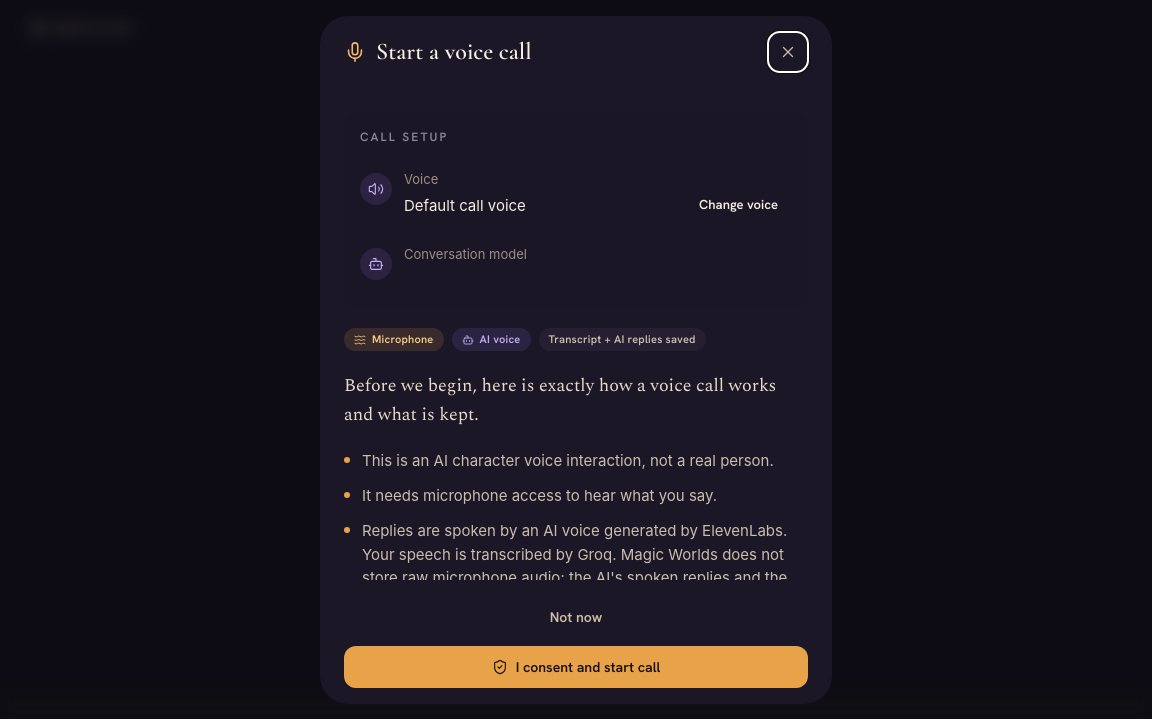
Scenario: Voice call integration proof › sends barge-in, drops local playback, and keeps provider/audio sentinels out of visible errors
Click the button "I consent and start call" at (576, 667), box [344,646,808,688]
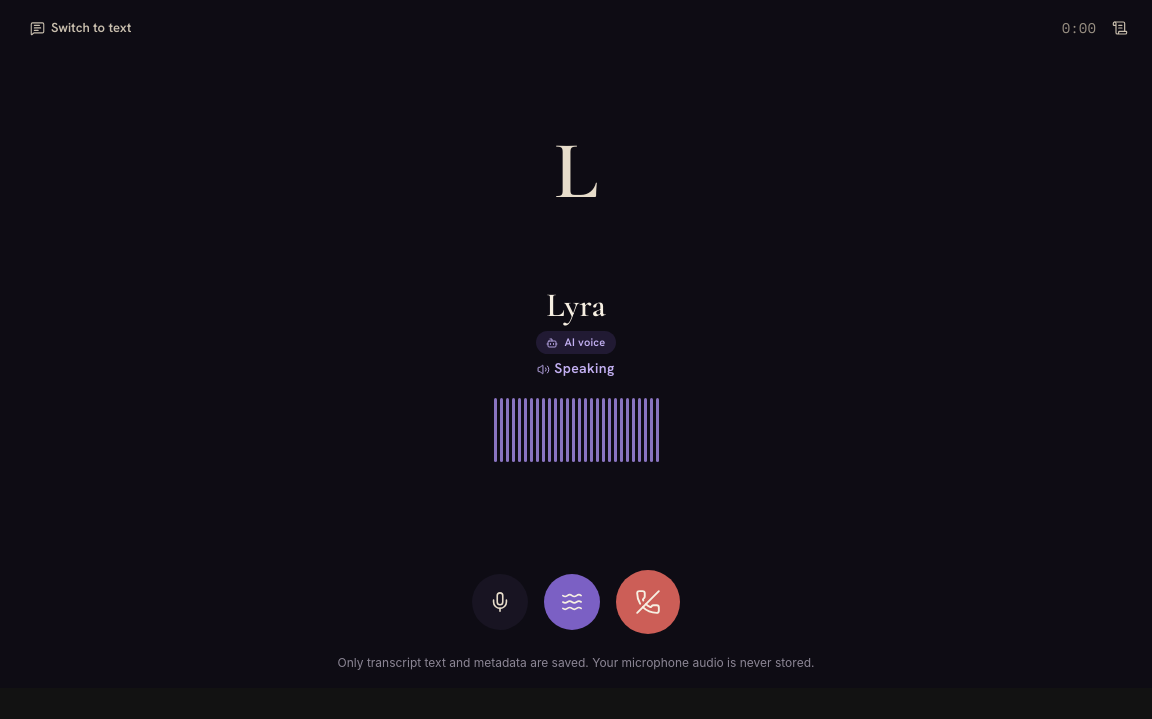
Click the button named "Interrupt" at (572, 602), box [544,574,600,630]
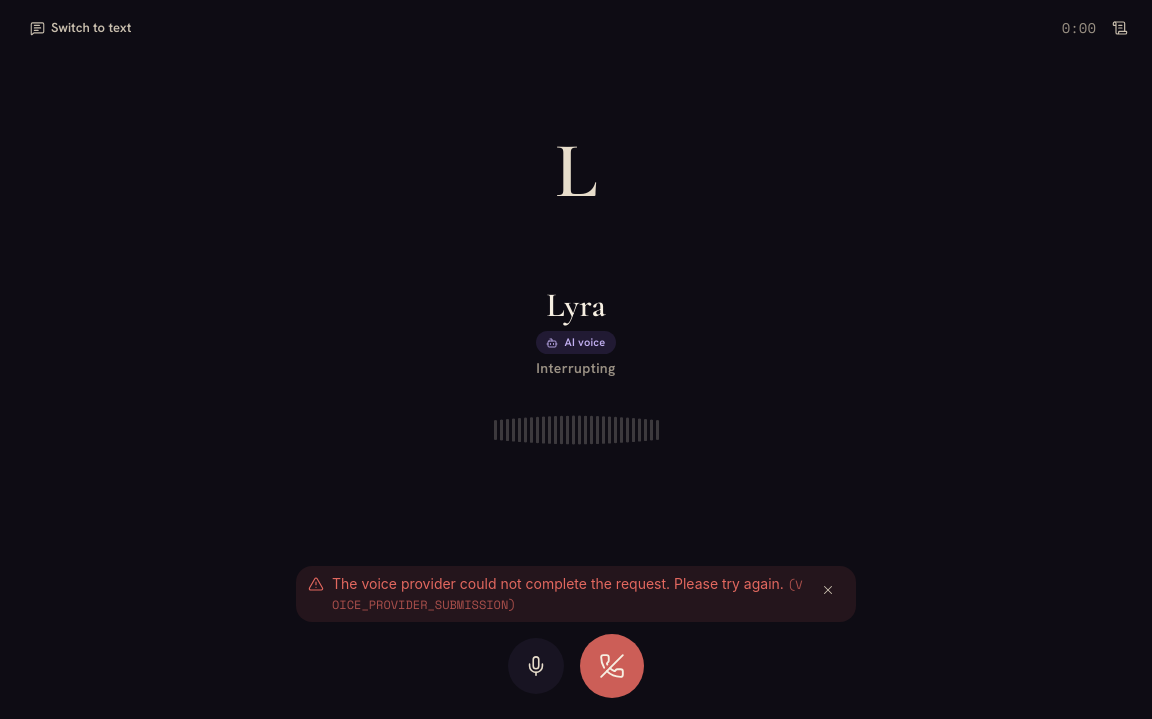
Result: the message shows "voice provider could not complete" at [332,575,784,592]
